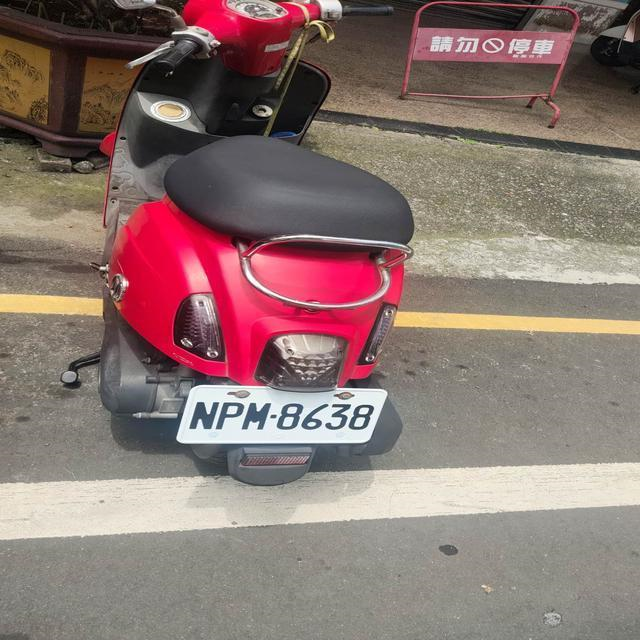license: (184, 386, 383, 446)
